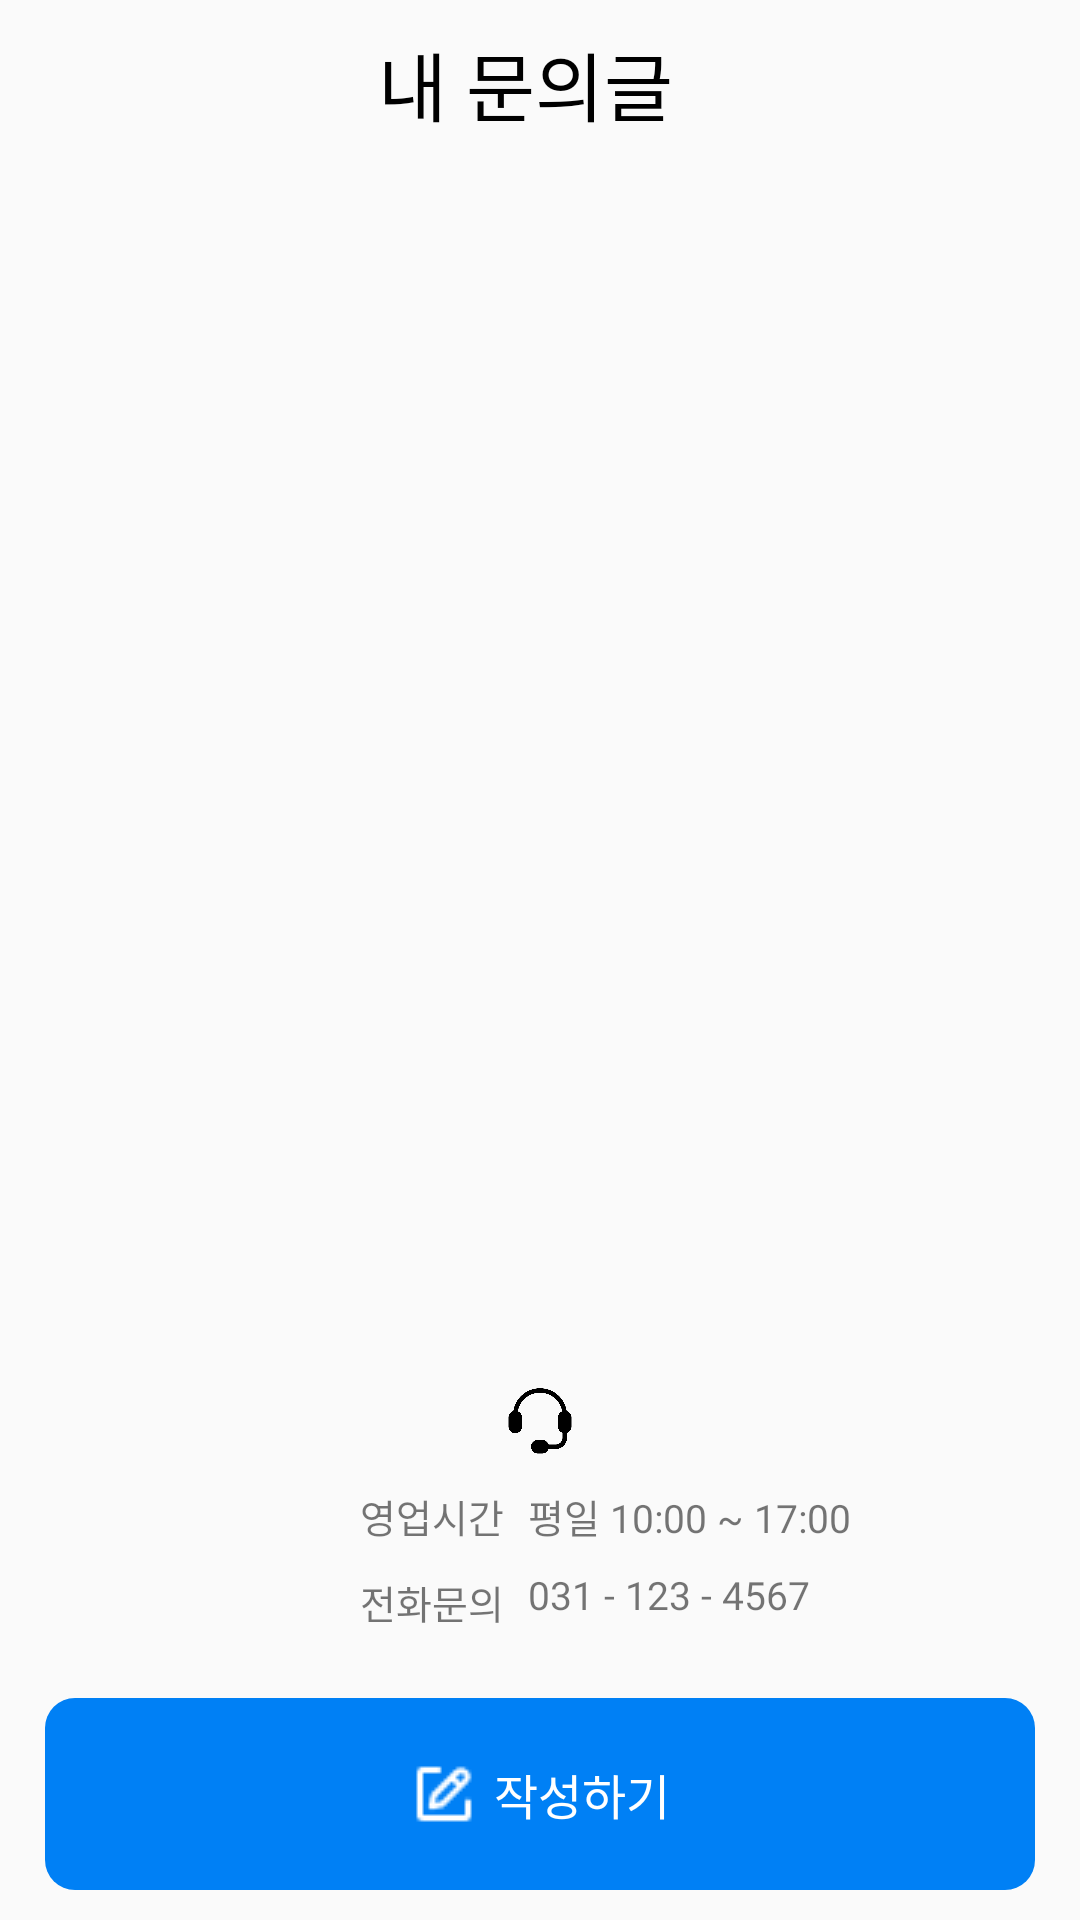

Named icons in this screenshot (1080×1920) and their centers, (x,y):
call center: (540,1421)
